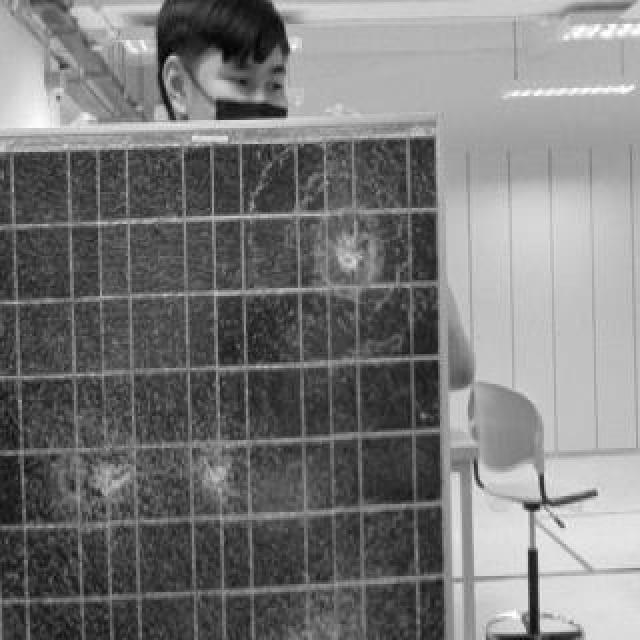Physical-damage: (267, 194, 411, 318), (263, 579, 404, 640), (41, 447, 156, 517), (176, 447, 254, 507)
